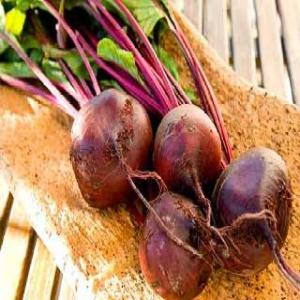beet: (70, 87, 152, 206), (214, 147, 290, 275), (136, 192, 215, 298), (156, 106, 222, 200)
